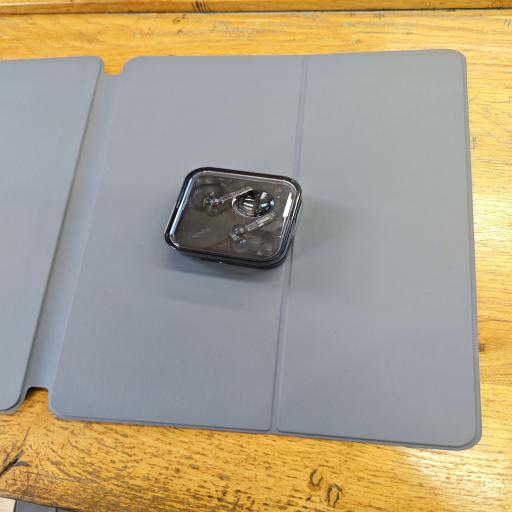Headphones: (156, 165, 308, 274)
